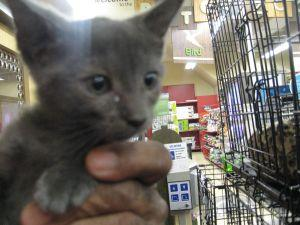rblue: (14, 1, 180, 147)
